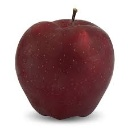apple: (16, 8, 114, 119)
